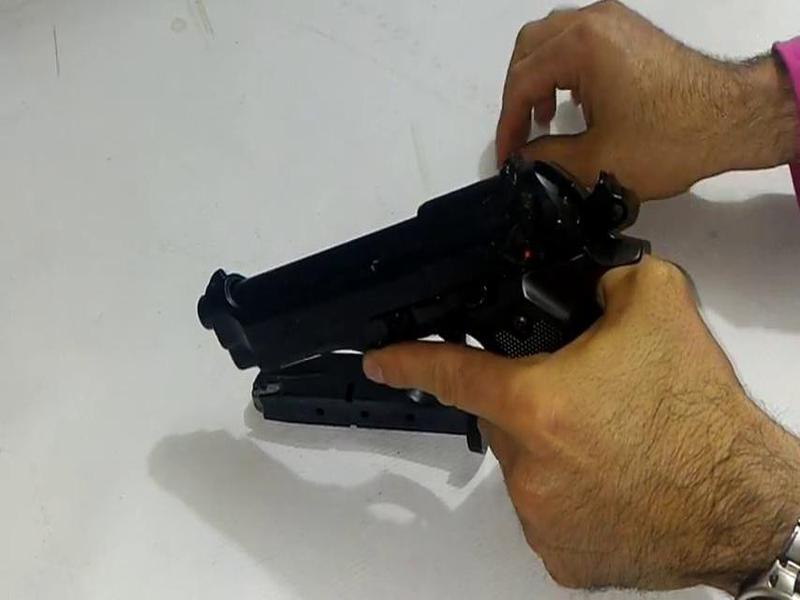Pistola: (199, 129, 674, 458)
